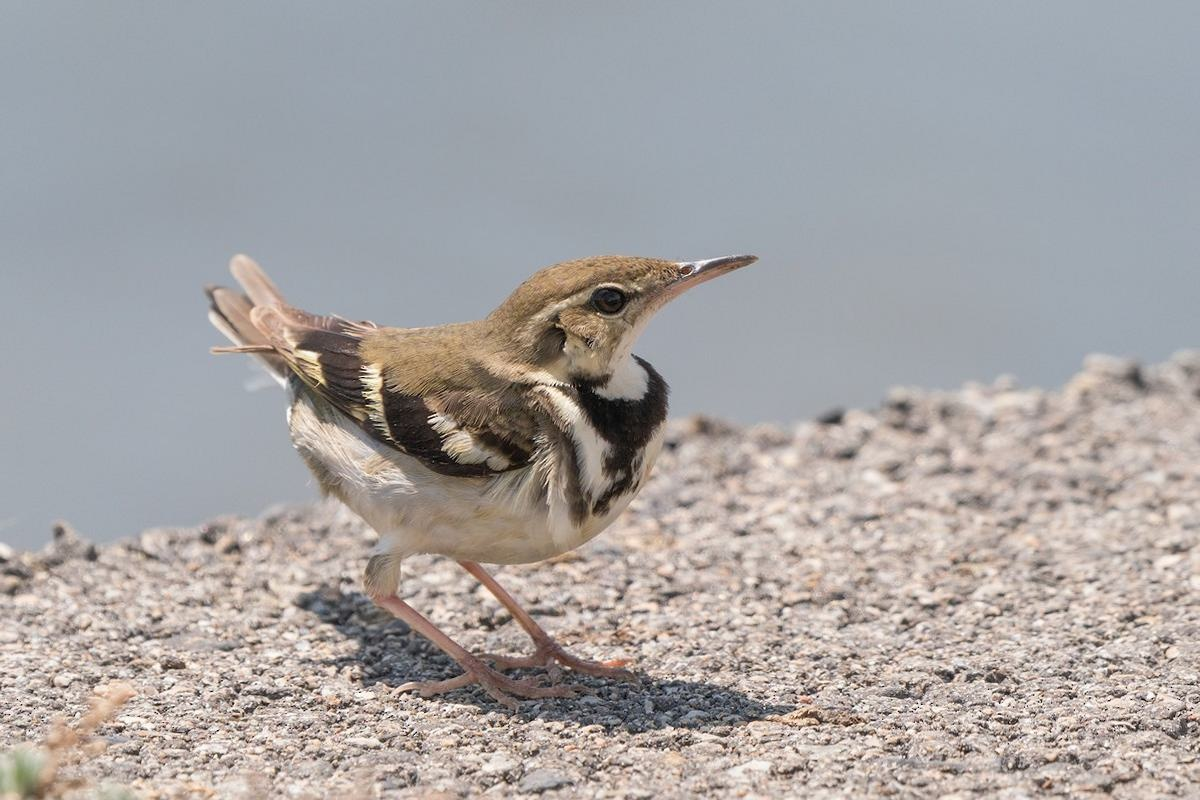wagtail: (219, 215, 806, 616)
